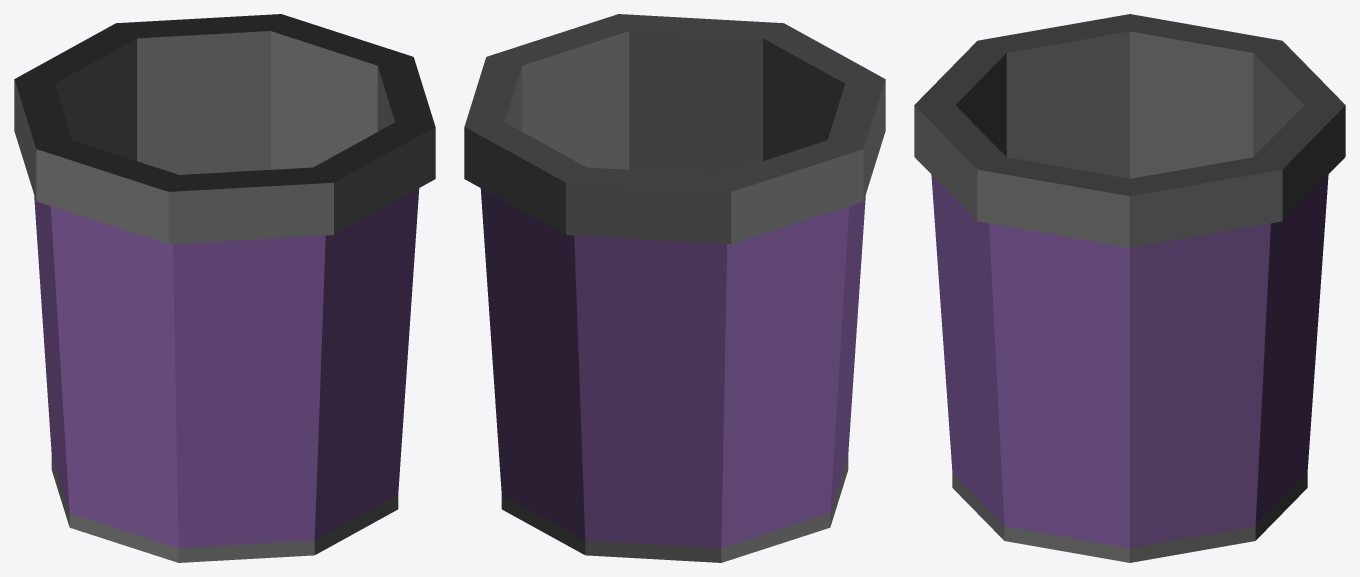
The model's file is Waste Bin.fbx.
The picture shows the model from 3 angles, left to right: view 1: azimuth 30°, elevation 25°; view 2: azimuth 150°, elevation 25°; view 3: azimuth 270°, elevation 25°; orthographic projection.
Parts seen in each view (by area): view 1: Node 0; view 2: Node 0; view 3: Node 0.
Part boxes in pixels (bbox=[...]): Node 0: bbox=[14, 14, 435, 562]; Node 0: bbox=[464, 14, 885, 562]; Node 0: bbox=[914, 14, 1345, 562].
Size of the model in its own units: 0.4869 by 0.4767 by 0.4869.
